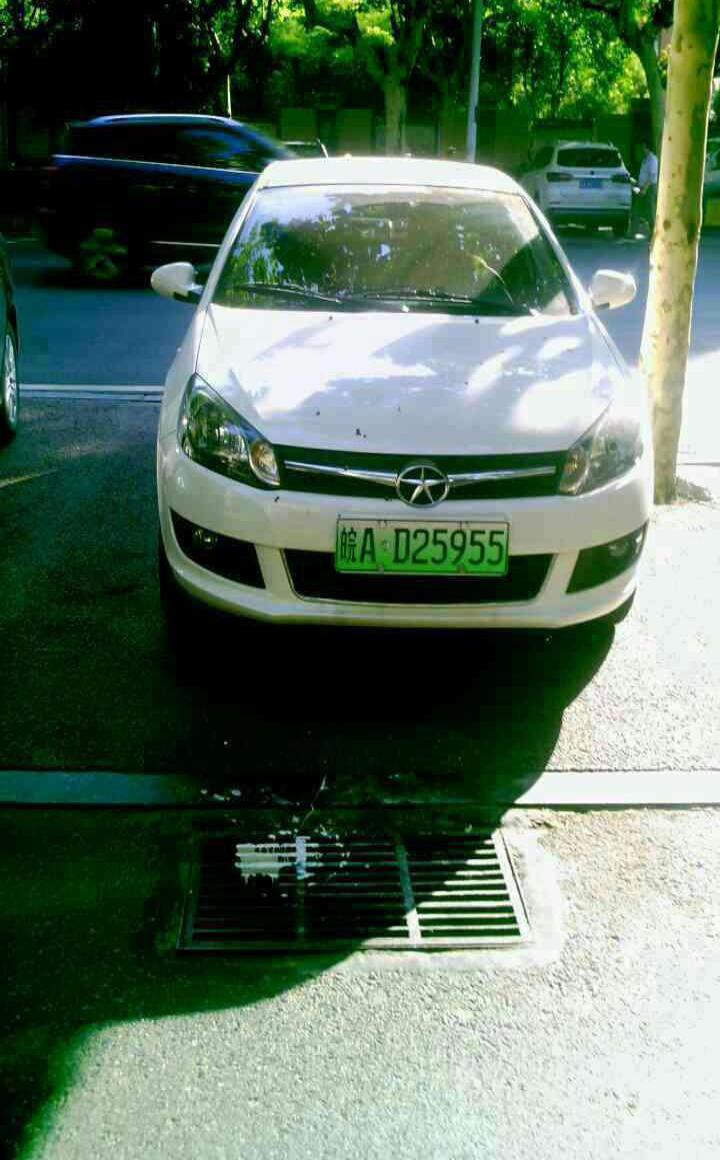car_green: (333, 516, 513, 578)
